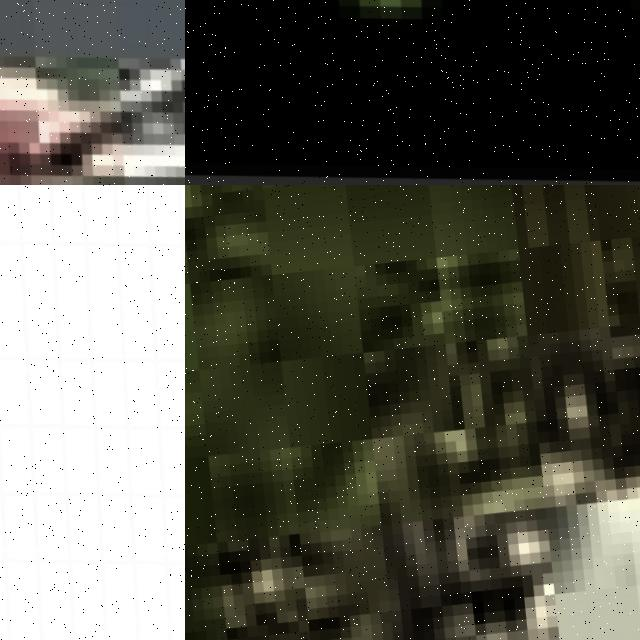0: (0, 0, 185, 185)
drone: (185, 0, 640, 185), (0, 185, 185, 640)
